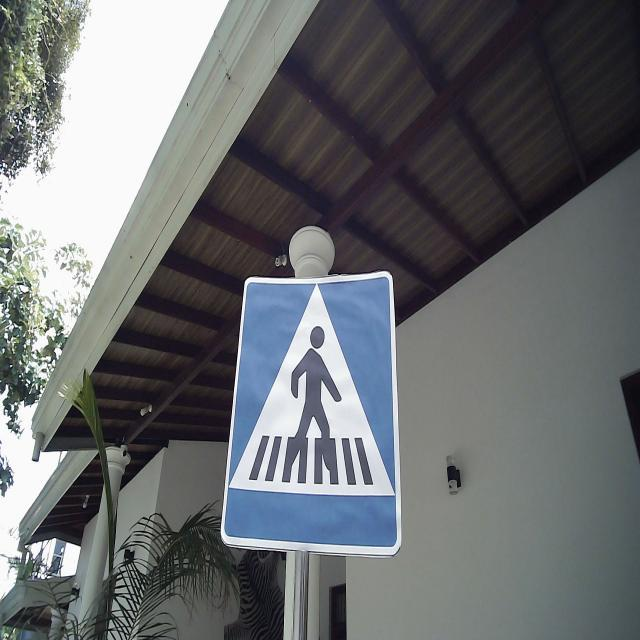crosswalk_sign: (218, 269, 404, 561)
